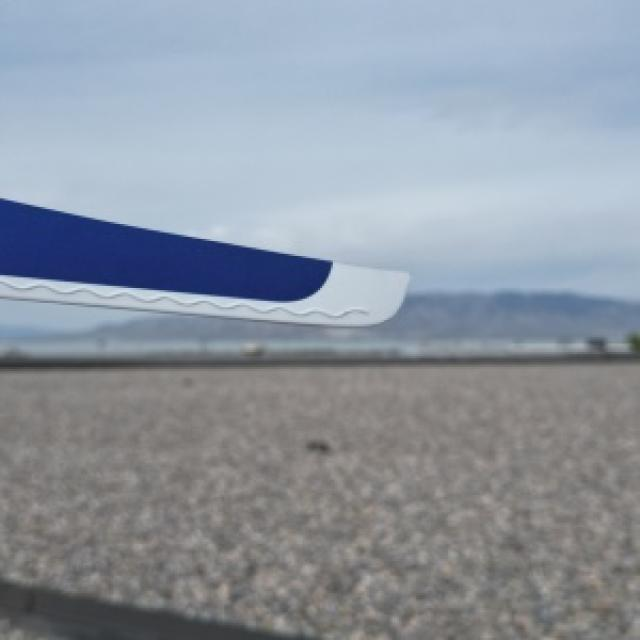healthy: (0, 198, 407, 324)
